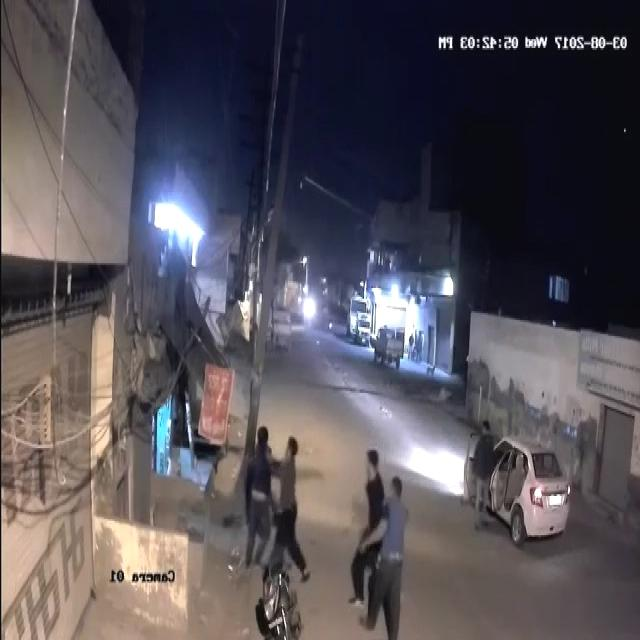fight: (244, 419, 309, 586)
